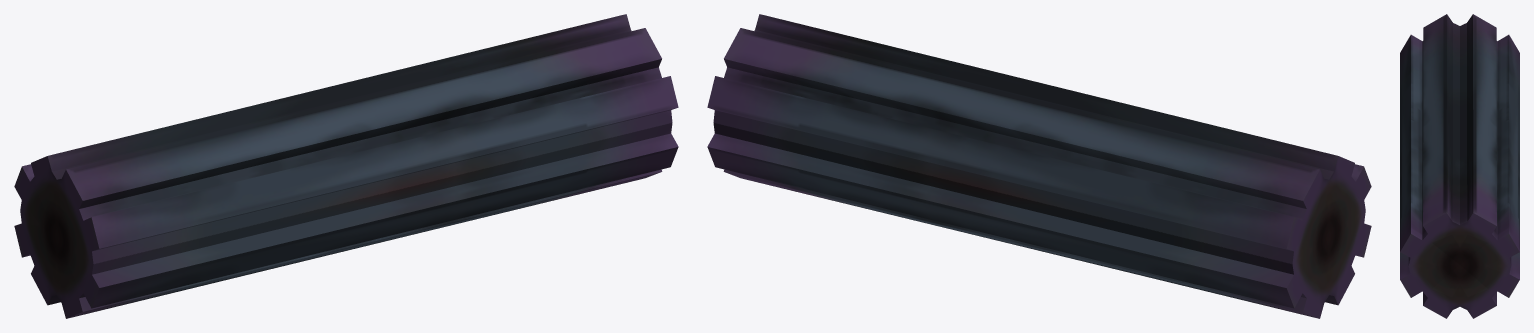
Rendered from assembler-gear.fbx.
3 renders of one model, left to right at view 1: azimuth 30°, elevation 25°; view 2: azimuth 150°, elevation 25°; view 3: azimuth 270°, elevation 25°, orthographic. The views are drawn at different scales.
Visible parts, largest first — view 1: assembler-gear; view 2: assembler-gear; view 3: assembler-gear.
Boxes of the visible parts, box(x1,y1,x2,y2) form: assembler-gear: box(14, 14, 678, 318); assembler-gear: box(707, 14, 1371, 318); assembler-gear: box(1400, 14, 1519, 318).
Size of the model in its own units: 221 by 54.73 by 56.07.
